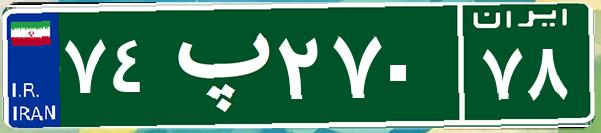0: (385, 28, 445, 110)
2: (273, 28, 330, 110)
4: (110, 28, 158, 105)
7: (330, 28, 385, 110), (57, 26, 110, 107), (475, 38, 525, 113)
8: (525, 38, 570, 115)
پ: (158, 15, 273, 115)
